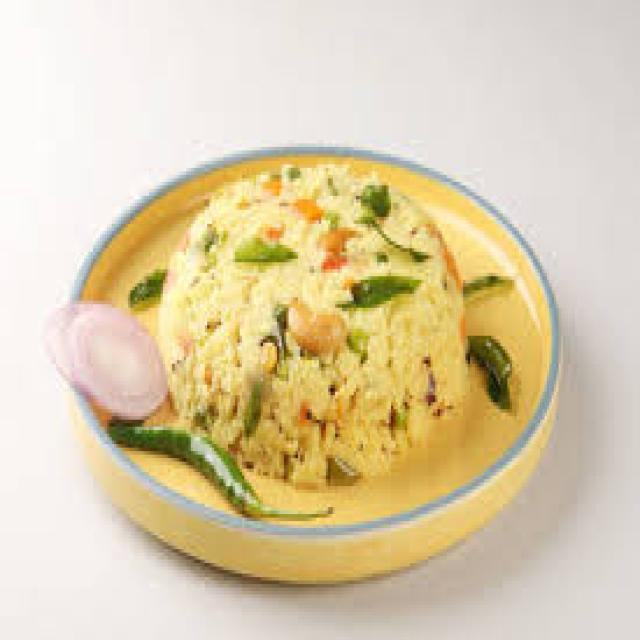UPMA: (156, 161, 468, 483)
